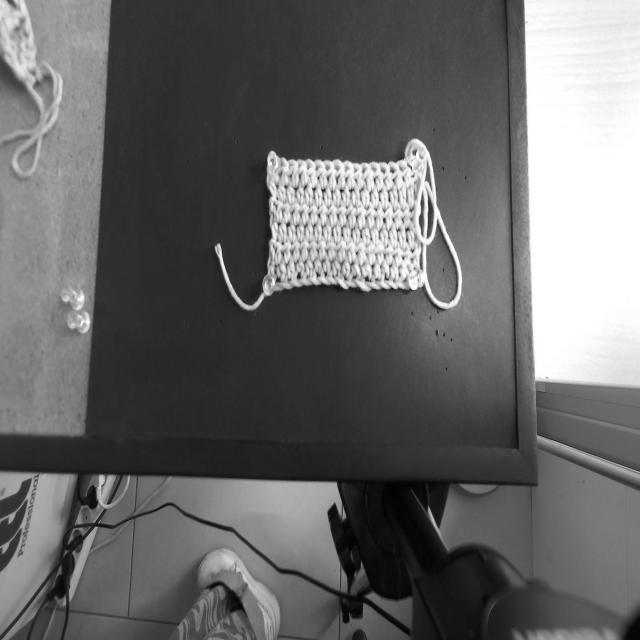ch: (335, 278, 349, 290), (364, 282, 382, 291), (356, 281, 371, 291), (393, 281, 409, 290), (306, 276, 321, 285), (376, 282, 392, 290), (325, 276, 337, 286), (277, 283, 293, 290), (300, 278, 312, 286), (386, 281, 398, 289), (291, 280, 303, 287), (344, 281, 357, 287), (319, 277, 330, 284)
hdc: (323, 159, 337, 193), (395, 158, 411, 187), (369, 161, 383, 193), (313, 159, 327, 189), (379, 161, 393, 190), (387, 162, 402, 189), (304, 158, 317, 188), (361, 163, 374, 191), (388, 181, 399, 213), (295, 159, 308, 186), (355, 201, 367, 230), (287, 159, 299, 188), (334, 160, 346, 189), (345, 199, 356, 230), (373, 200, 384, 231), (326, 198, 337, 228), (349, 254, 361, 281), (334, 199, 346, 226), (382, 202, 393, 231), (344, 161, 355, 189), (406, 218, 415, 251), (278, 159, 289, 186), (353, 163, 364, 190), (299, 197, 309, 226), (329, 253, 341, 277), (336, 235, 346, 263), (317, 199, 327, 227), (360, 182, 370, 210), (365, 240, 376, 265), (361, 256, 372, 281), (393, 240, 403, 267), (361, 219, 371, 246), (402, 202, 412, 229), (320, 252, 331, 276), (305, 177, 314, 206), (393, 202, 403, 228), (407, 177, 415, 209), (412, 240, 421, 268), (366, 201, 375, 229), (296, 177, 305, 205), (308, 236, 318, 261), (308, 200, 318, 225), (286, 179, 296, 204), (287, 253, 296, 280), (327, 235, 336, 262), (356, 238, 365, 265), (379, 182, 388, 209), (351, 182, 360, 209), (341, 255, 351, 279), (402, 242, 412, 266), (370, 221, 380, 245), (290, 202, 300, 226), (384, 239, 393, 265), (304, 254, 314, 277), (341, 183, 351, 206), (323, 217, 332, 242), (279, 218, 288, 243), (315, 179, 323, 207), (278, 176, 286, 204), (313, 252, 322, 276), (313, 218, 322, 242), (288, 216, 296, 243), (301, 236, 309, 262), (389, 221, 397, 247), (324, 181, 332, 207), (277, 257, 286, 280), (318, 236, 326, 261), (347, 238, 355, 263), (376, 239, 384, 264), (270, 172, 278, 197), (389, 257, 398, 279), (399, 258, 408, 280), (270, 196, 277, 224), (399, 181, 406, 209), (380, 223, 388, 247), (282, 244, 292, 263), (291, 241, 301, 260), (296, 257, 305, 278), (333, 185, 342, 206), (275, 242, 283, 265), (343, 221, 351, 244), (374, 258, 381, 284), (334, 218, 341, 244), (272, 217, 279, 243), (371, 184, 378, 209), (352, 223, 360, 244), (306, 218, 313, 242), (399, 222, 405, 249), (276, 200, 283, 223), (298, 217, 304, 241), (284, 203, 290, 224)
